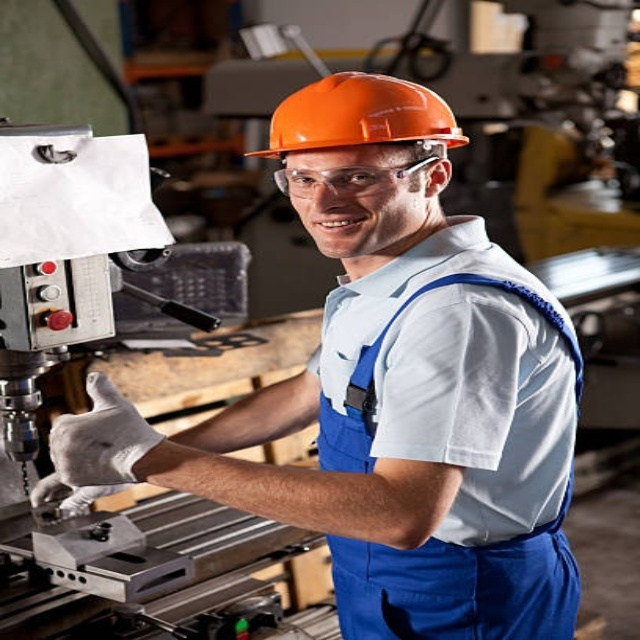Gafas: (276, 155, 442, 195)
Guantes: (44, 371, 166, 492)
Sin_mascara: (300, 211, 372, 246)
